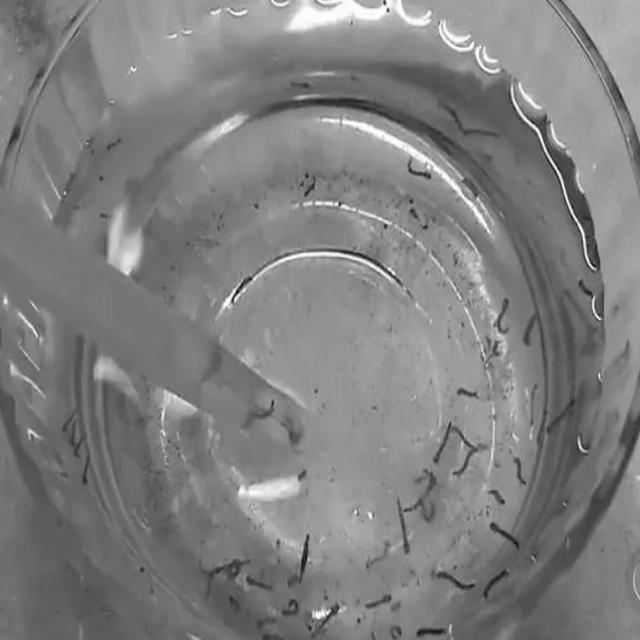larvas: (548, 395, 574, 433), (312, 601, 339, 636), (438, 100, 463, 132), (435, 570, 474, 590), (433, 423, 451, 463), (452, 448, 477, 476), (490, 522, 519, 546), (483, 568, 507, 596), (407, 156, 432, 182), (231, 275, 251, 305), (400, 497, 410, 553), (366, 546, 387, 570), (465, 125, 501, 139), (245, 574, 273, 591), (300, 534, 310, 581), (496, 296, 509, 332), (528, 384, 539, 426), (451, 428, 474, 448), (524, 312, 538, 343), (82, 451, 93, 486), (302, 176, 316, 202), (365, 593, 390, 607), (282, 598, 299, 617), (514, 456, 525, 484), (257, 400, 274, 418), (421, 504, 436, 522), (579, 280, 593, 298), (428, 472, 438, 497), (415, 629, 446, 637), (488, 488, 505, 502), (539, 406, 545, 445), (62, 411, 72, 432), (228, 594, 240, 611), (414, 469, 427, 484), (227, 560, 239, 576), (291, 80, 310, 90), (410, 495, 421, 512), (204, 572, 211, 598), (458, 389, 478, 398), (391, 622, 401, 639), (494, 341, 504, 358), (257, 618, 276, 626), (263, 632, 282, 640), (76, 434, 82, 458), (70, 421, 76, 445), (109, 138, 120, 150), (210, 567, 226, 575), (238, 559, 250, 565)
